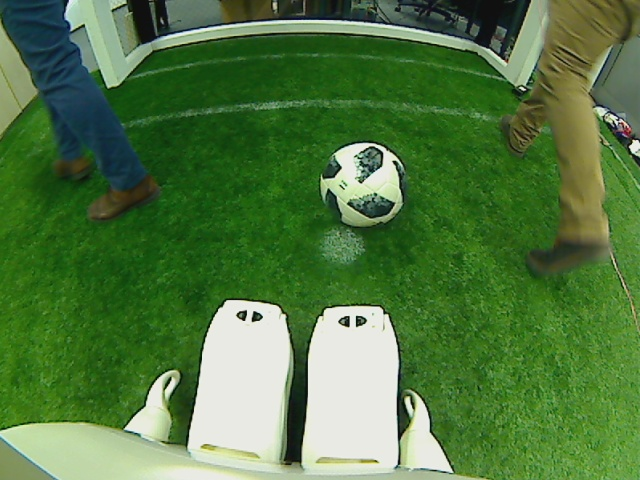ball: (317, 140, 408, 228)
